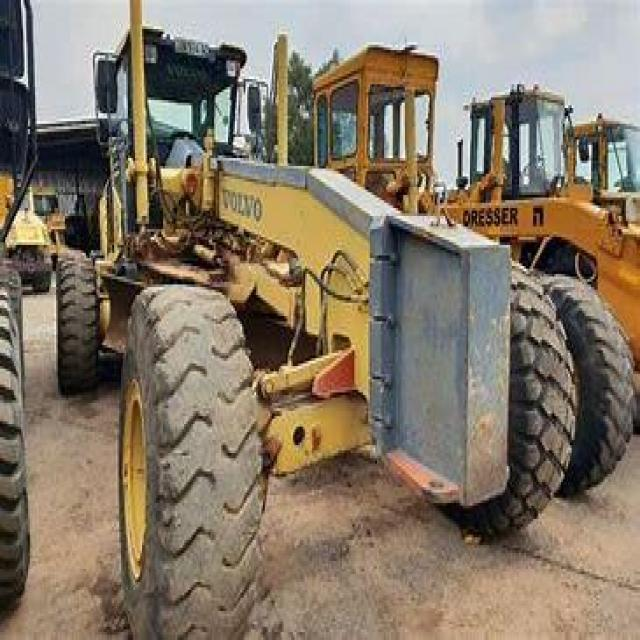Grader: (49, 23, 570, 634)
